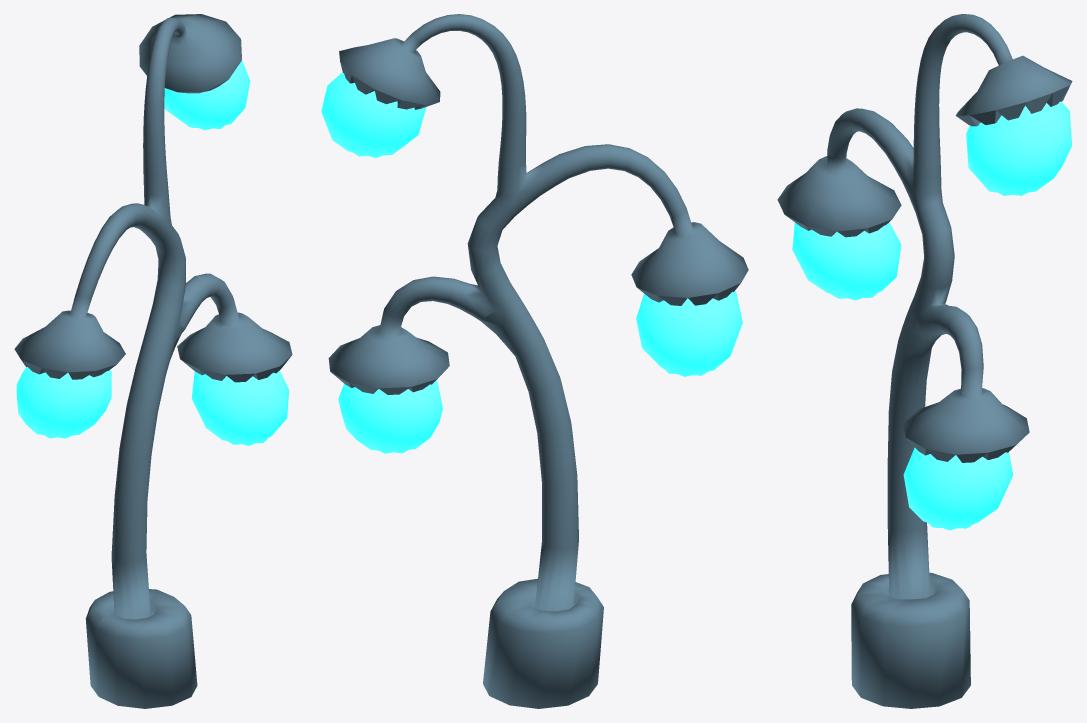
Rendered from Lamppost.fbx.
3 views of the same model, side by side, from view 1: azimuth 30°, elevation 25°; view 2: azimuth 150°, elevation 25°; view 3: azimuth 270°, elevation 25° (orthographic). The views are drawn at different scales.
Parts seen in each view (by area): view 1: Light Pole.002; view 2: Light Pole.002; view 3: Light Pole.002.
Part boxes in pixels (x1=…): Light Pole.002: x1=14, y1=14, x2=292, y2=708; Light Pole.002: x1=321, y1=14, x2=748, y2=708; Light Pole.002: x1=777, y1=14, x2=1072, y2=708.
Size of the model in its own units: 526 by 989 by 380.
